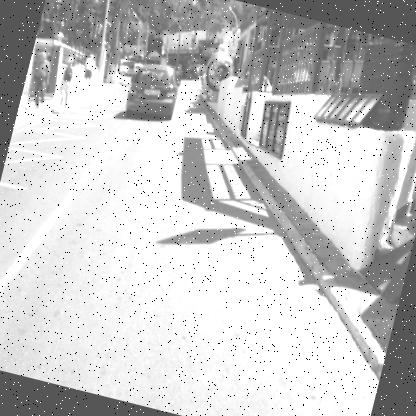Car: (124, 60, 184, 122), (118, 56, 140, 76), (185, 63, 207, 80)
